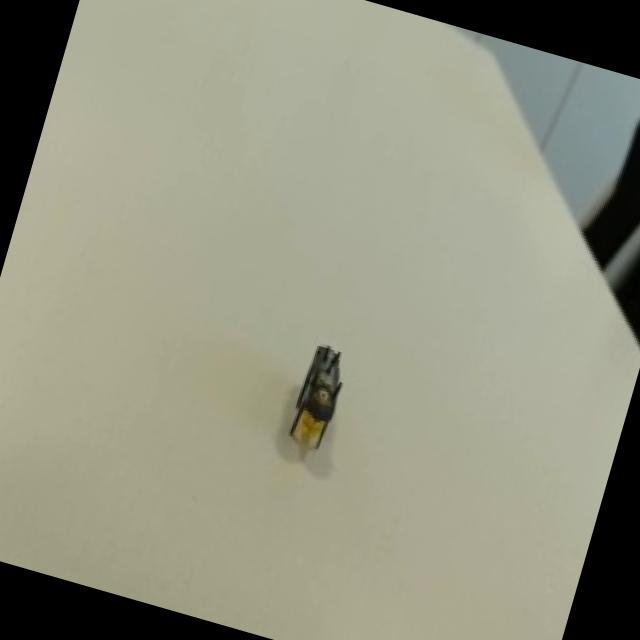6_NanoBug_GrisOscuro: (261, 292, 382, 468)
